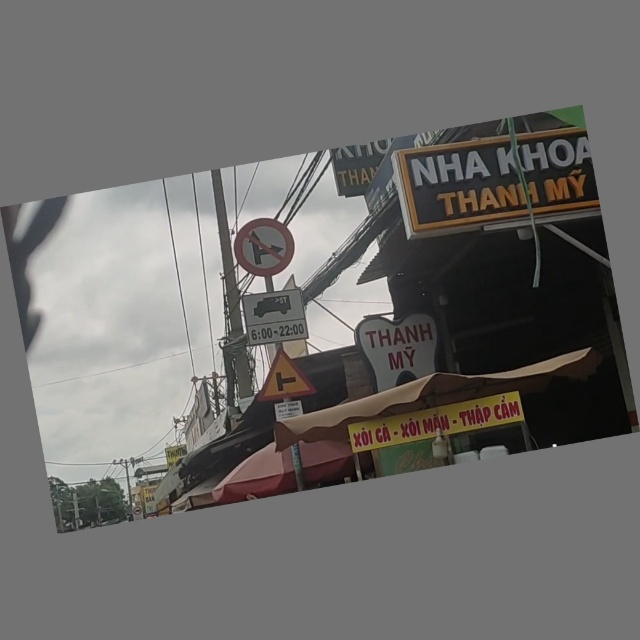P.139: (230, 214, 297, 281)
S.505a*Xe tai: (240, 288, 309, 349)
W.205b: (248, 344, 316, 404)
